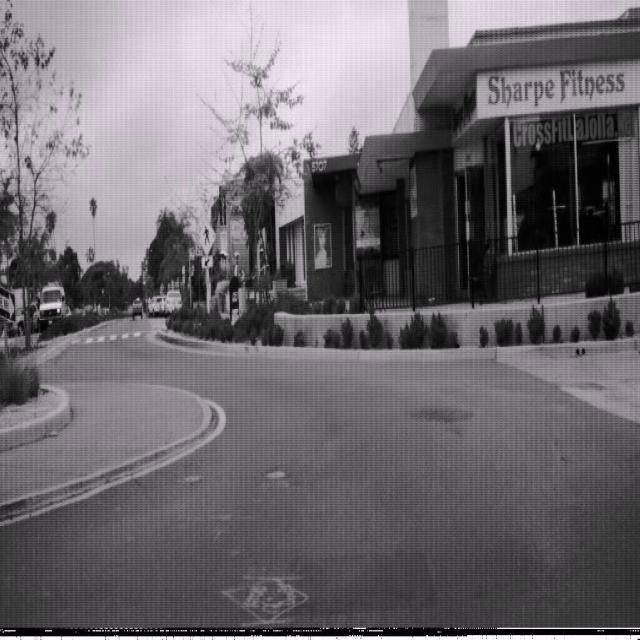pedestrianCrossing: (196, 216, 216, 255)
